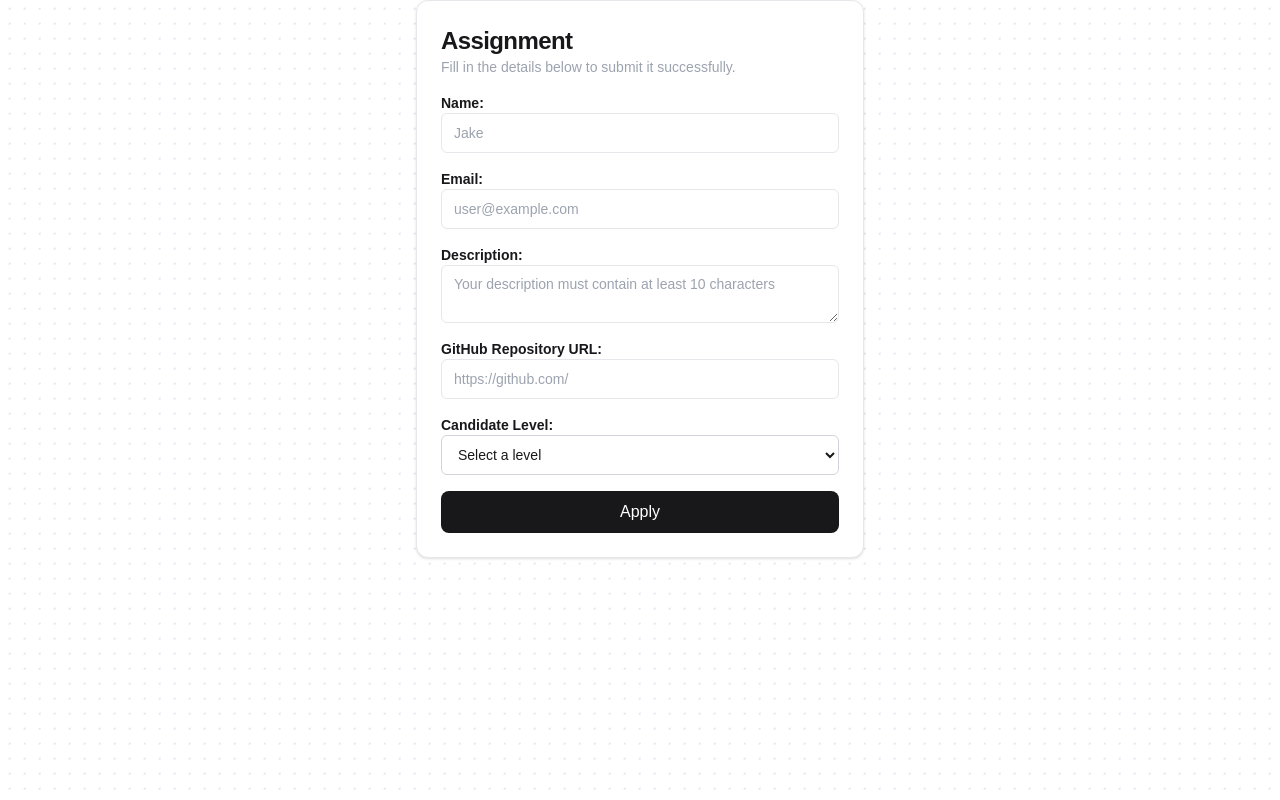
AssignmentForm Component › should display a generic validation error for invalid inputs
Click the button "Apply" at (640, 512), box [441,491,839,533]
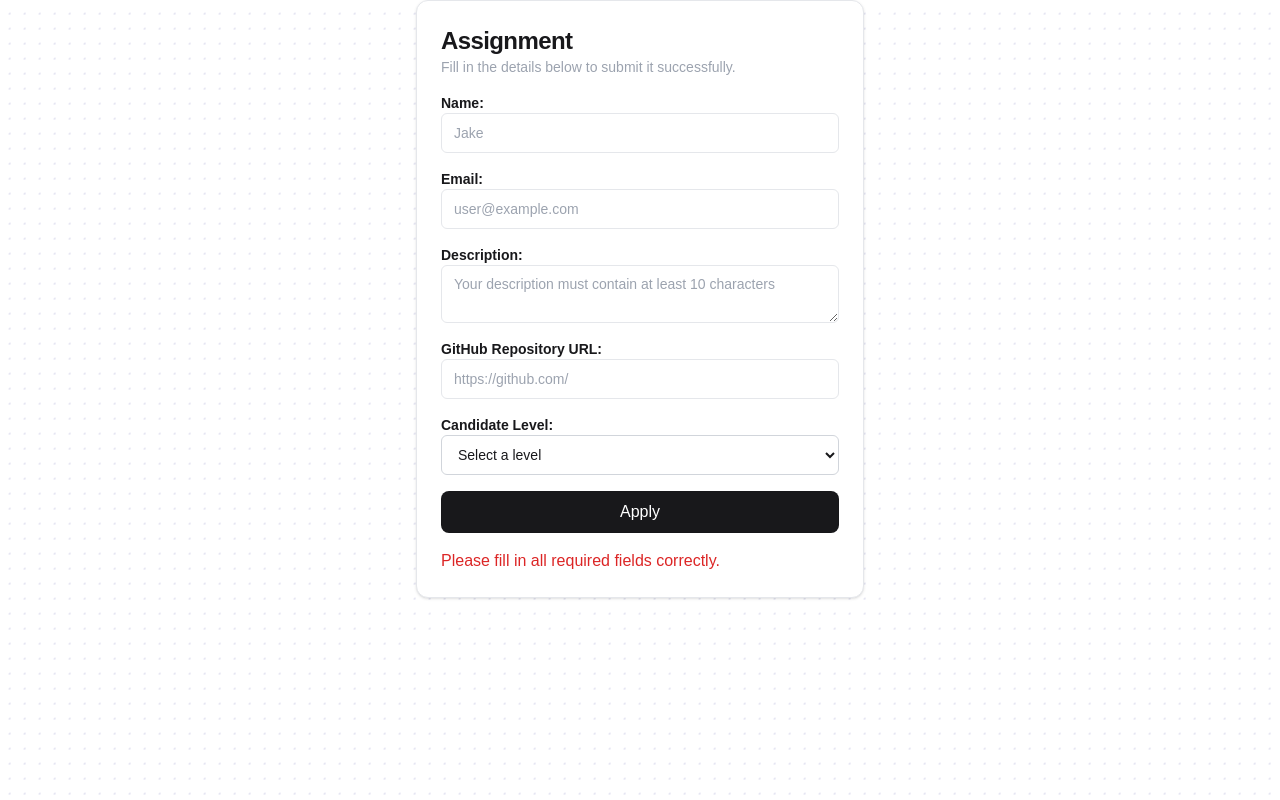
expect the text "Please fill in all required fields correctly." is shown: met, box [441,552,720,569]
